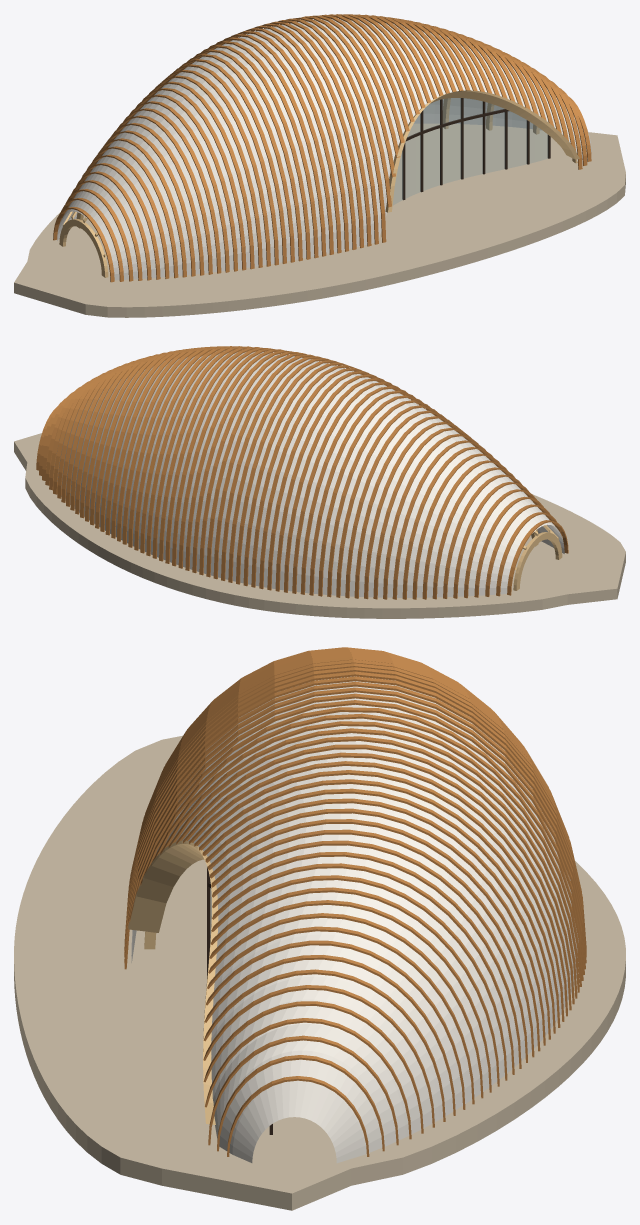
File: kyrenia-pavilion.glb
3 renders of one model, top to bottom at view 1: azimuth 30°, elevation 25°; view 2: azimuth 150°, elevation 25°; view 3: azimuth 270°, elevation 25°, orthographic. The views are drawn at different scales.
Parts seen in each view (by area): view 1: layer-skin, layer-base, layer-membrane, layer-glazing, layer-ribs, layer-glazing-frame; view 2: layer-skin, layer-membrane, layer-base, layer-ribs; view 3: layer-skin, layer-membrane, layer-base, layer-ribs.
Boxes of the visible parts, left/top/right/bottom form: layer-skin: left=53, top=14, right=591, bottom=282; layer-base: left=14, top=123, right=625, bottom=317; layer-membrane: left=57, top=19, right=591, bottom=280; layer-glazing: left=393, top=98, right=547, bottom=204; layer-ribs: left=59, top=90, right=579, bottom=277; layer-glazing-frame: left=402, top=98, right=550, bottom=200; layer-skin: left=36, top=346, right=568, bottom=599; layer-membrane: left=54, top=351, right=564, bottom=597; layer-base: left=14, top=433, right=625, bottom=618; layer-ribs: left=513, top=525, right=562, bottom=590; layer-skin: left=124, top=647, right=586, bottom=1156; layer-membrane: left=131, top=676, right=578, bottom=1163; layer-base: left=14, top=735, right=625, bottom=1210; layer-ribs: left=128, top=840, right=218, bottom=1124.
Bounding box in the file's own units: 26.8 × 7.42 × 14.48.
